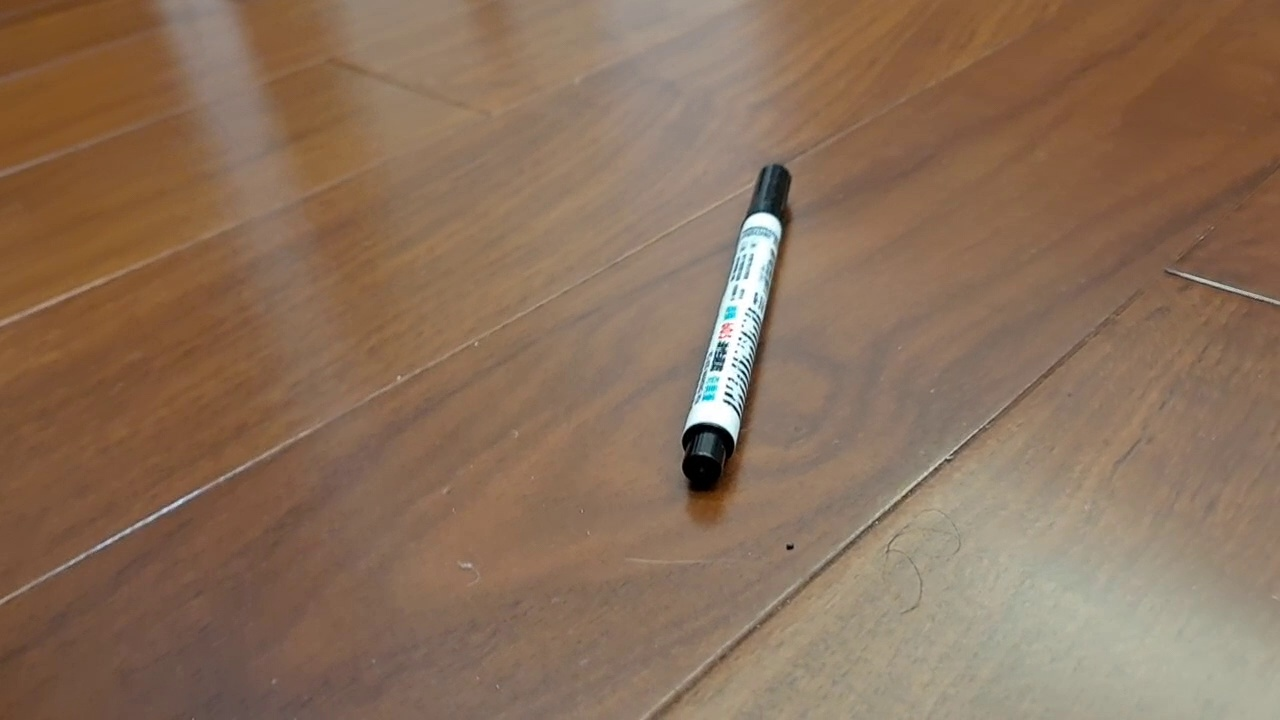pen: (681, 162, 792, 489)
